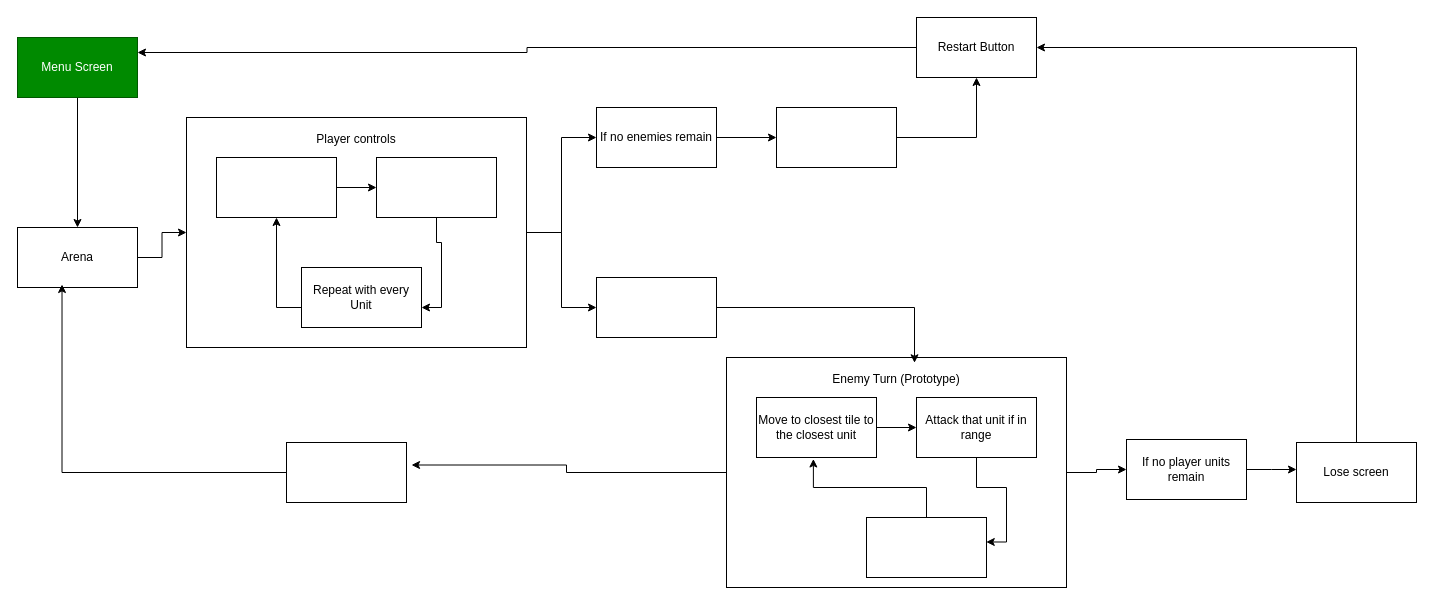
The diagram is 1434 pixels wide and 605 high, and some of its shapes have lost their labels. The shapes that lost their labels are listed below. From the top down, each one's centre as x and y in pixels, then its label:
At pixel 836 137: "Win screen".
At pixel 276 187: "Move Unit".
At pixel 436 187: "Attack Enemy".
At pixel 656 307: "If enemies remain".
At pixel 346 472: "If player units remain".
At pixel 926 547: "Repeat with every Enemy".
